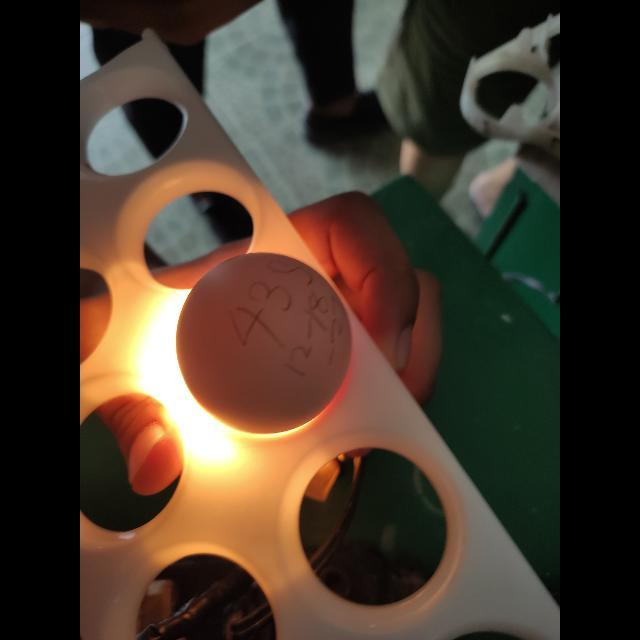Fertile: (173, 248, 359, 436)
